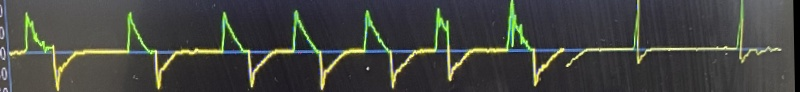hydrop_flow: (364, 0, 800, 92), (6, 2, 105, 92)
normal_flow: (114, 3, 352, 92)
